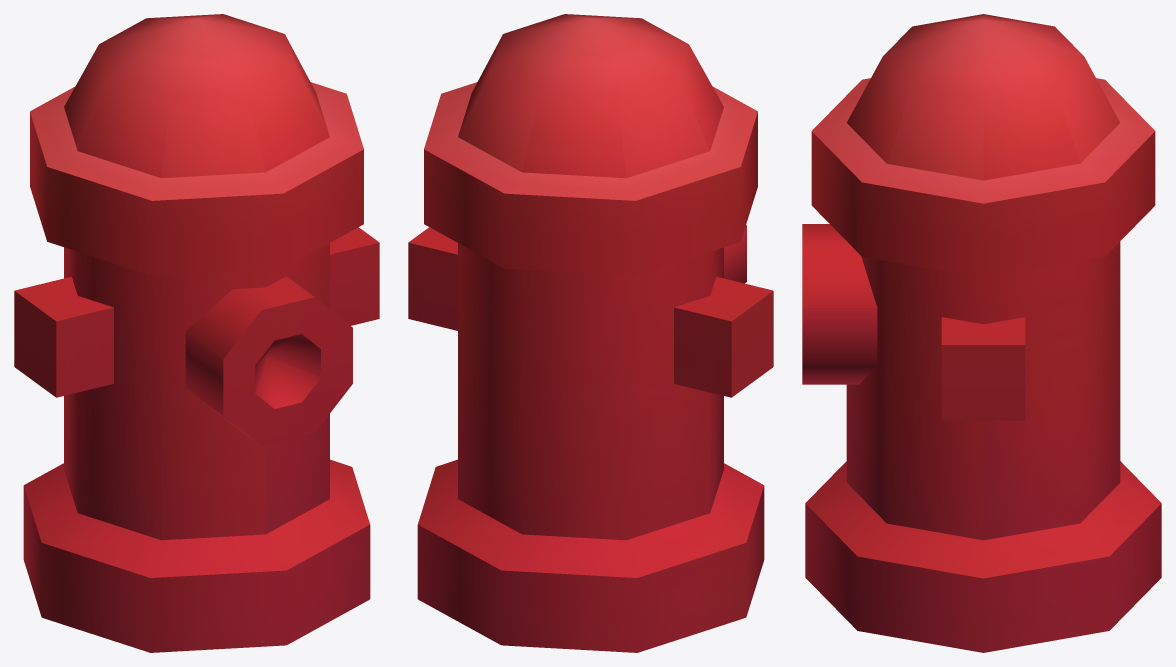
Rendered from kkcity.firehydrant.glb.
3 views of the same model, side by side, from view 1: azimuth 30°, elevation 25°; view 2: azimuth 150°, elevation 25°; view 3: azimuth 270°, elevation 25° (orthographic).
Visible parts, largest first — view 1: firehydrant; view 2: firehydrant; view 3: firehydrant.
Part boxes in pixels (left/top/right/bottom): firehydrant: left=14, top=14, right=379, bottom=652; firehydrant: left=408, top=14, right=773, bottom=652; firehydrant: left=802, top=14, right=1161, bottom=652.
Bounding box in the file's own units: 0.6501 × 1.08 × 0.63.
1 material, 1 textured.
